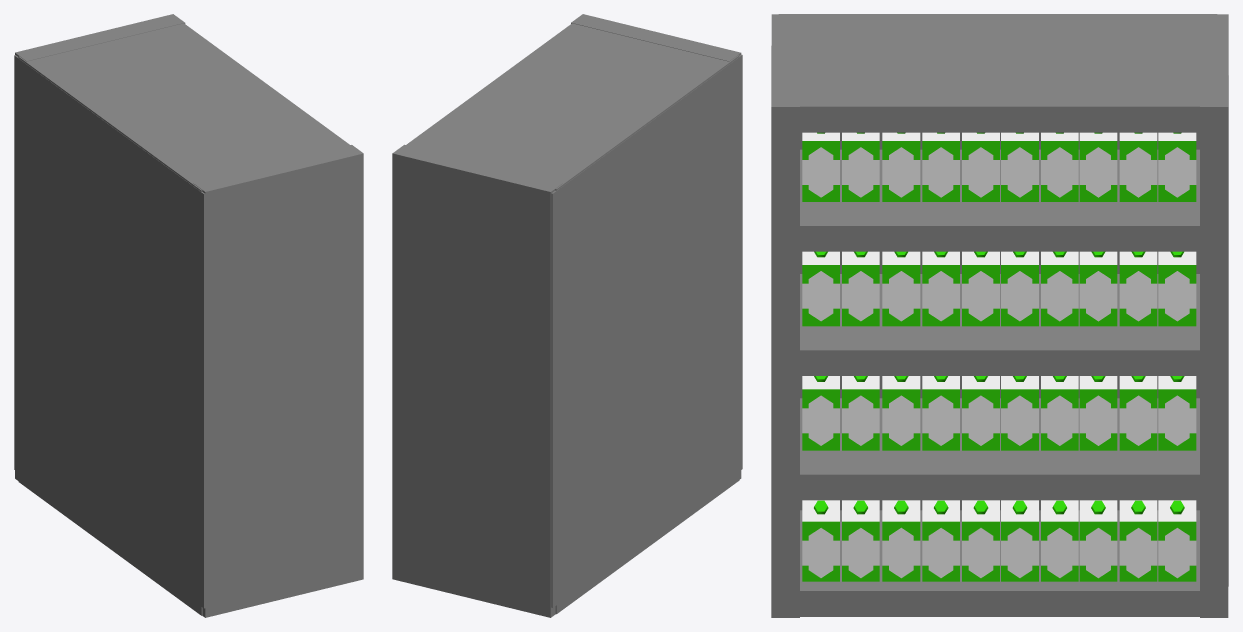
The model's file is green_milk_shelf.gltf.
3 views of the same model, side by side, from view 1: azimuth 30°, elevation 25°; view 2: azimuth 150°, elevation 25°; view 3: azimuth 270°, elevation 25° (orthographic). The views are drawn at different scales.
Visible parts, largest first — view 1: Cube.002; view 2: Cube.002; view 3: Cube.002, carton.014, carton.017, carton.004, carton.019, carton.013, carton.016, carton.001, carton.018.
Part boxes in pixels (x1=…): Cube.002: x1=14, y1=14, x2=363, y2=617; Cube.002: x1=392, y1=14, x2=742, y2=617; Cube.002: x1=771, y1=14, x2=1228, y2=617; carton.014: x1=842, y1=500, x2=1196, y2=581; carton.017: x1=842, y1=251, x2=1196, y2=326; carton.004: x1=842, y1=376, x2=1196, y2=450; carton.019: x1=842, y1=132, x2=1196, y2=201; carton.013: x1=802, y1=500, x2=839, y2=581; carton.016: x1=802, y1=251, x2=839, y2=326; carton.001: x1=802, y1=376, x2=839, y2=450; carton.018: x1=802, y1=132, x2=839, y2=201.
Bounding box in the file's own units: 4.03 × 10.28 × 8.34.
